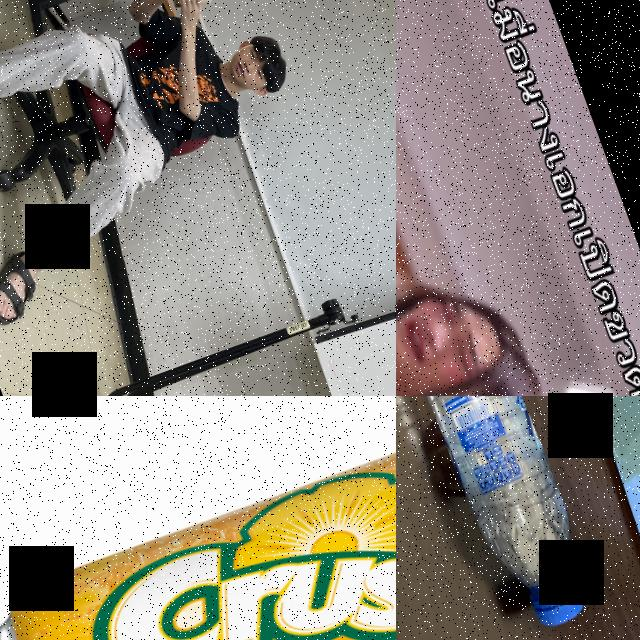bottle: (396, 396, 607, 640)
can: (0, 396, 396, 640)
cup: (164, 0, 218, 17)
